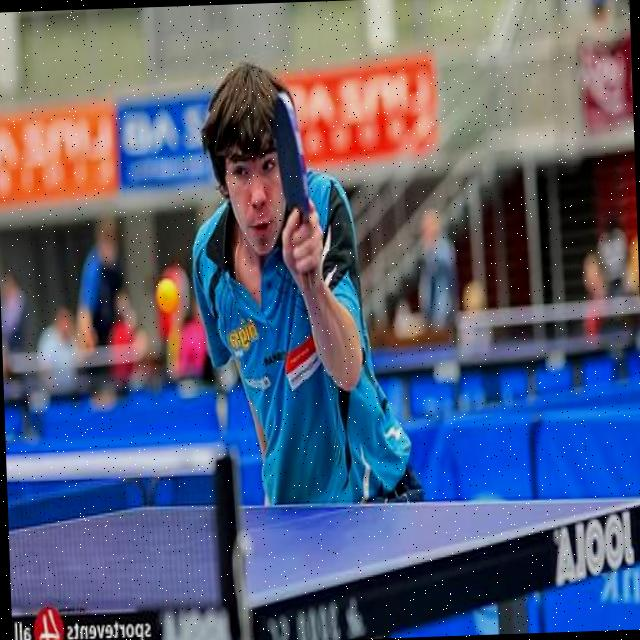ping-pong-ball: (152, 275, 178, 314)
